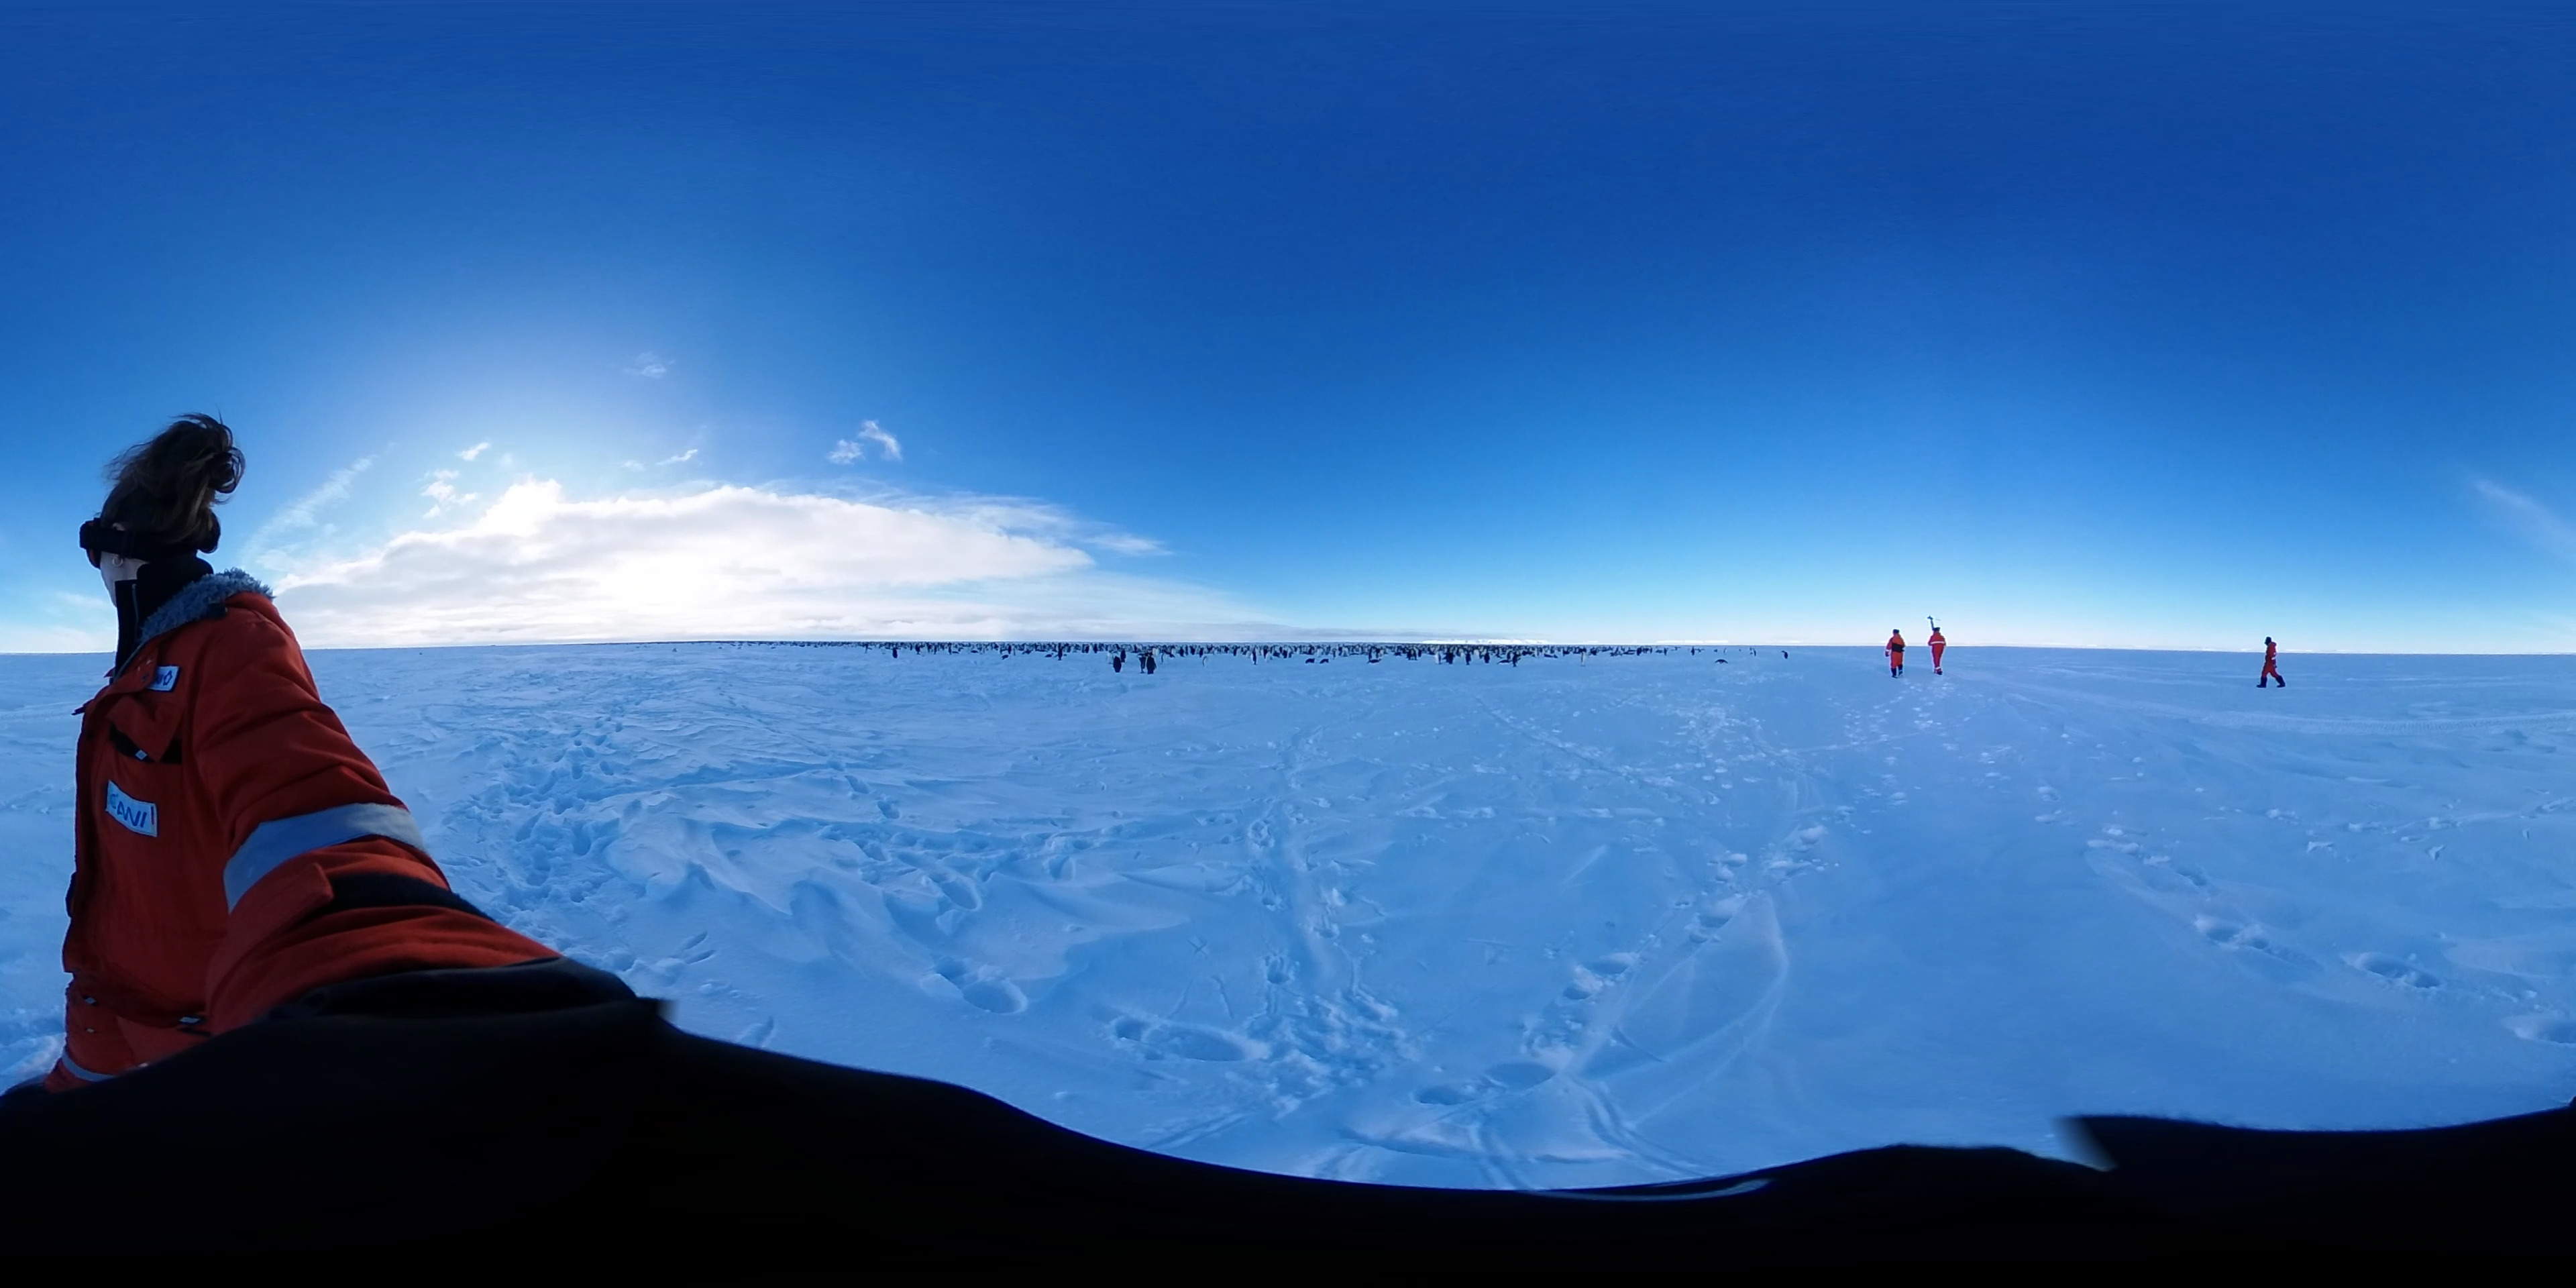adult_standing_penguin: (1143, 654, 1157, 678), (1112, 654, 1124, 674), (1250, 647, 1262, 667), (1434, 647, 1444, 669), (1464, 647, 1472, 667), (1577, 651, 1585, 670), (1480, 652, 1490, 664), (1782, 647, 1792, 659)
adult_toboggan_penguin: (1364, 655, 1383, 665), (1303, 657, 1318, 665), (1497, 659, 1515, 665), (1712, 659, 1730, 665), (1319, 657, 1332, 665)
researcher: (59, 407, 384, 1068), (2256, 634, 2288, 690), (1883, 628, 1911, 683), (1925, 624, 1950, 678)
